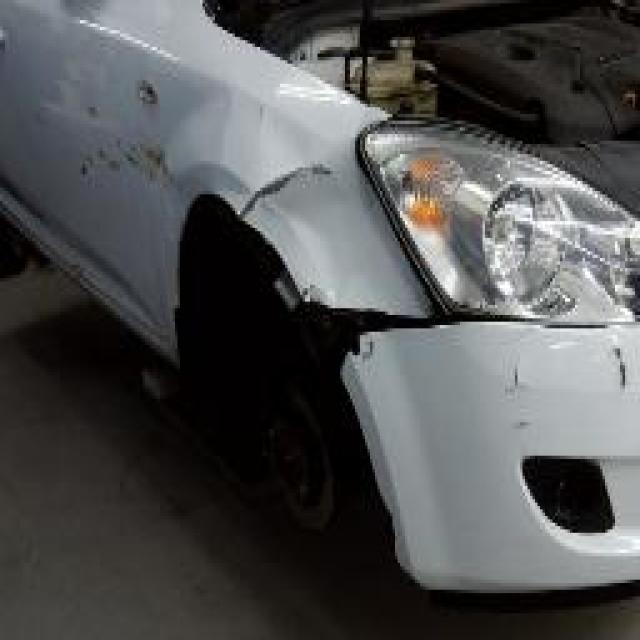Bumper: (325, 322, 640, 603)
Door: (30, 27, 170, 265)
Fender: (180, 47, 400, 312)
